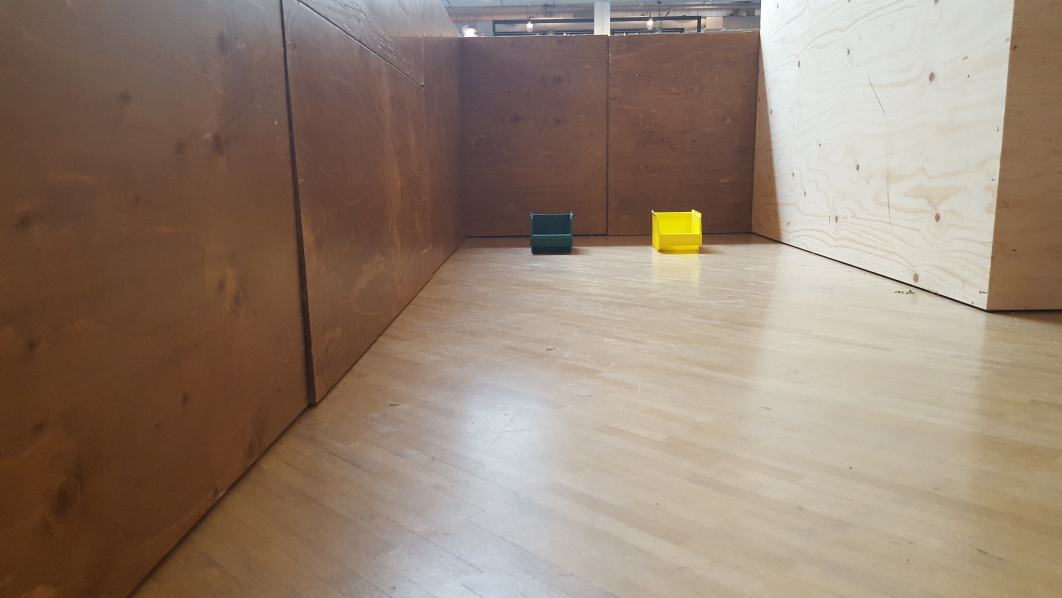tray: (645, 205, 704, 255), (522, 207, 580, 255)
